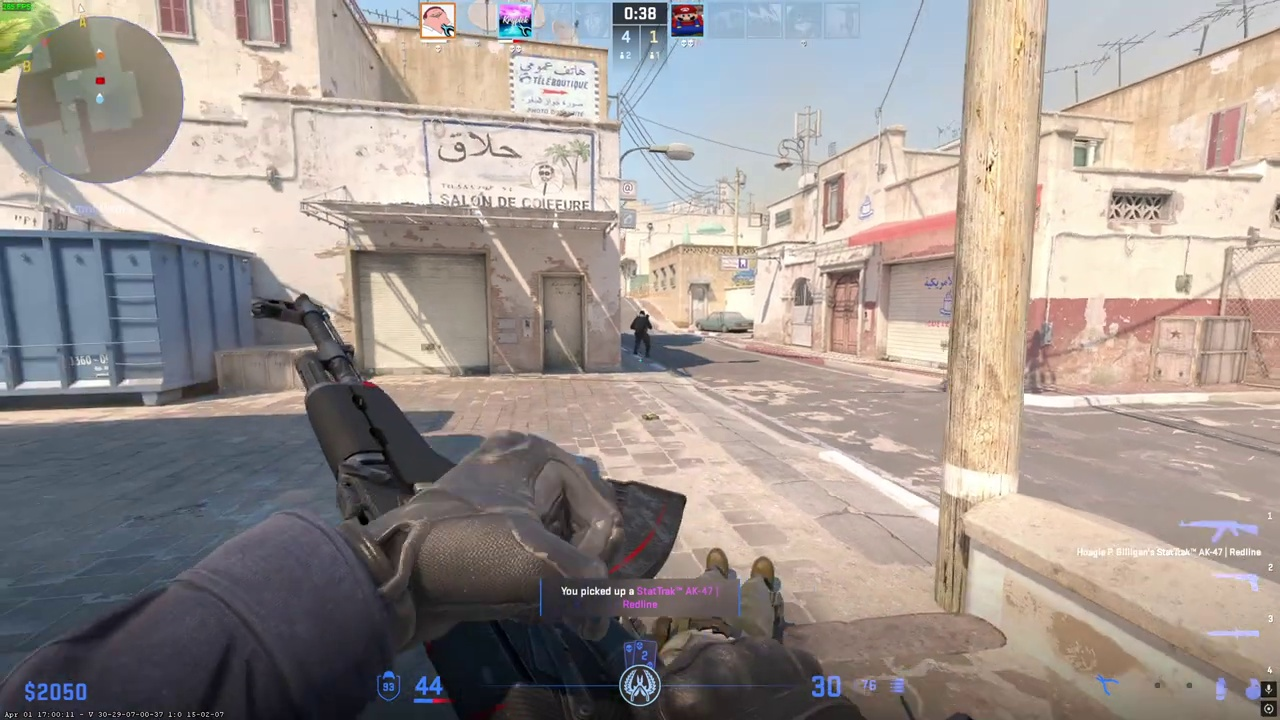CT: (632, 311, 652, 358)
